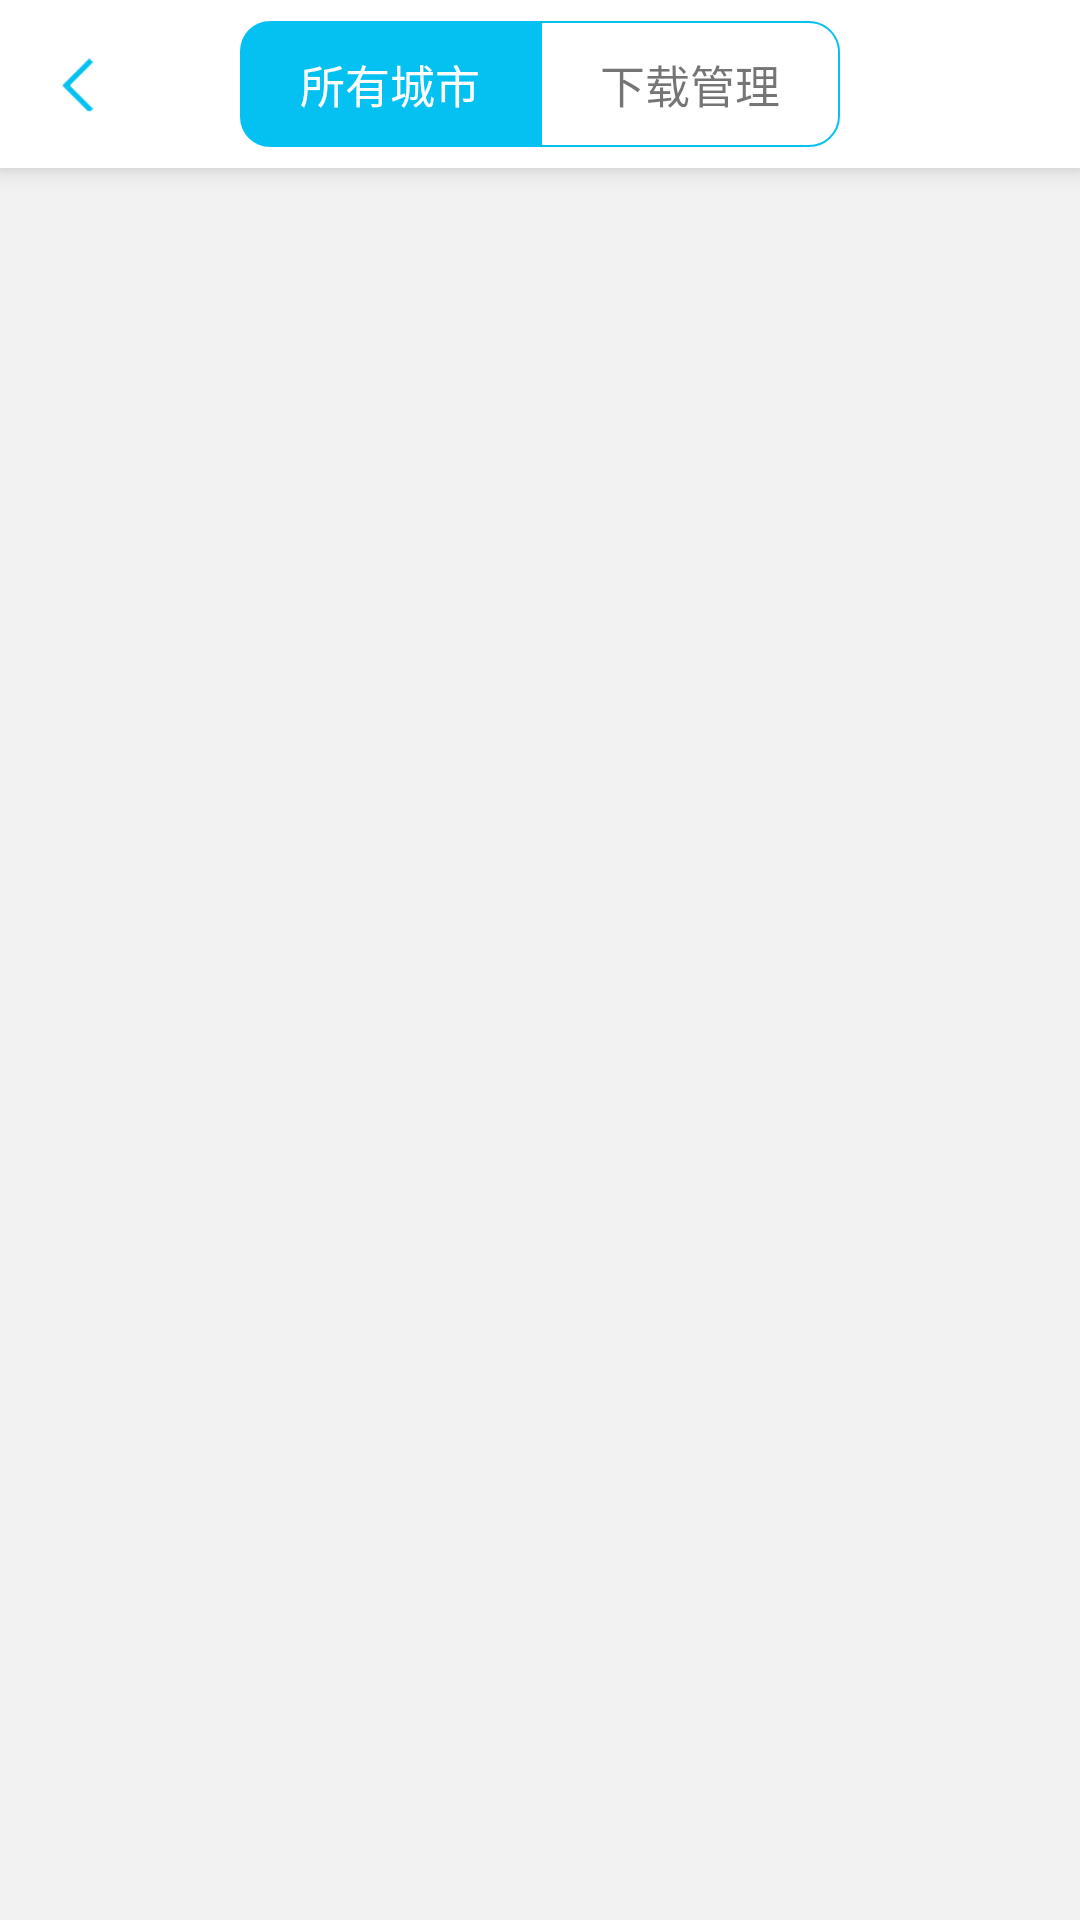

Icons on this 1080 × 1920 Android screen, each with its box as bbox=(x1, y1, x2, y2):
back arrow: bbox=(62, 58, 94, 112)
